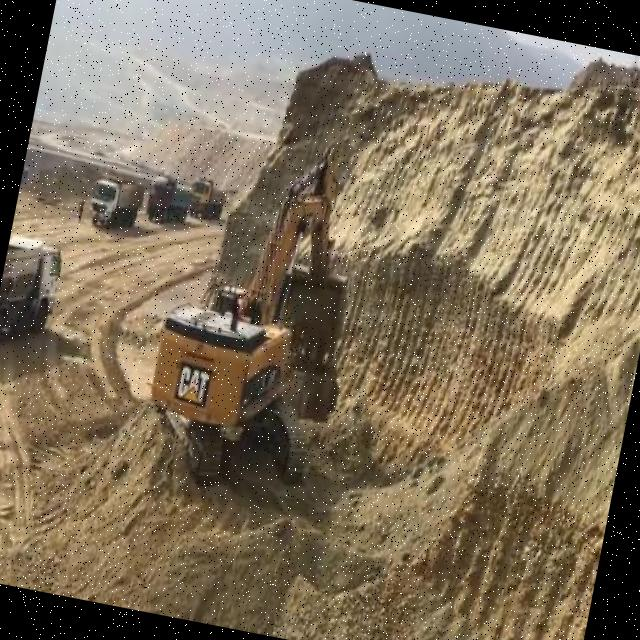Dump Truck: (0, 229, 71, 365), (85, 167, 148, 237), (144, 170, 192, 226), (184, 172, 232, 225), (6, 194, 38, 263)
Excavator: (137, 122, 384, 504)
